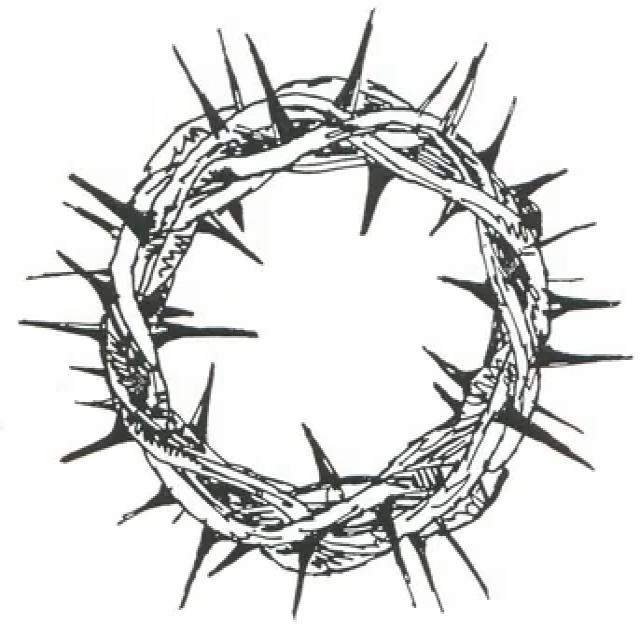crown: (76, 57, 580, 607)
